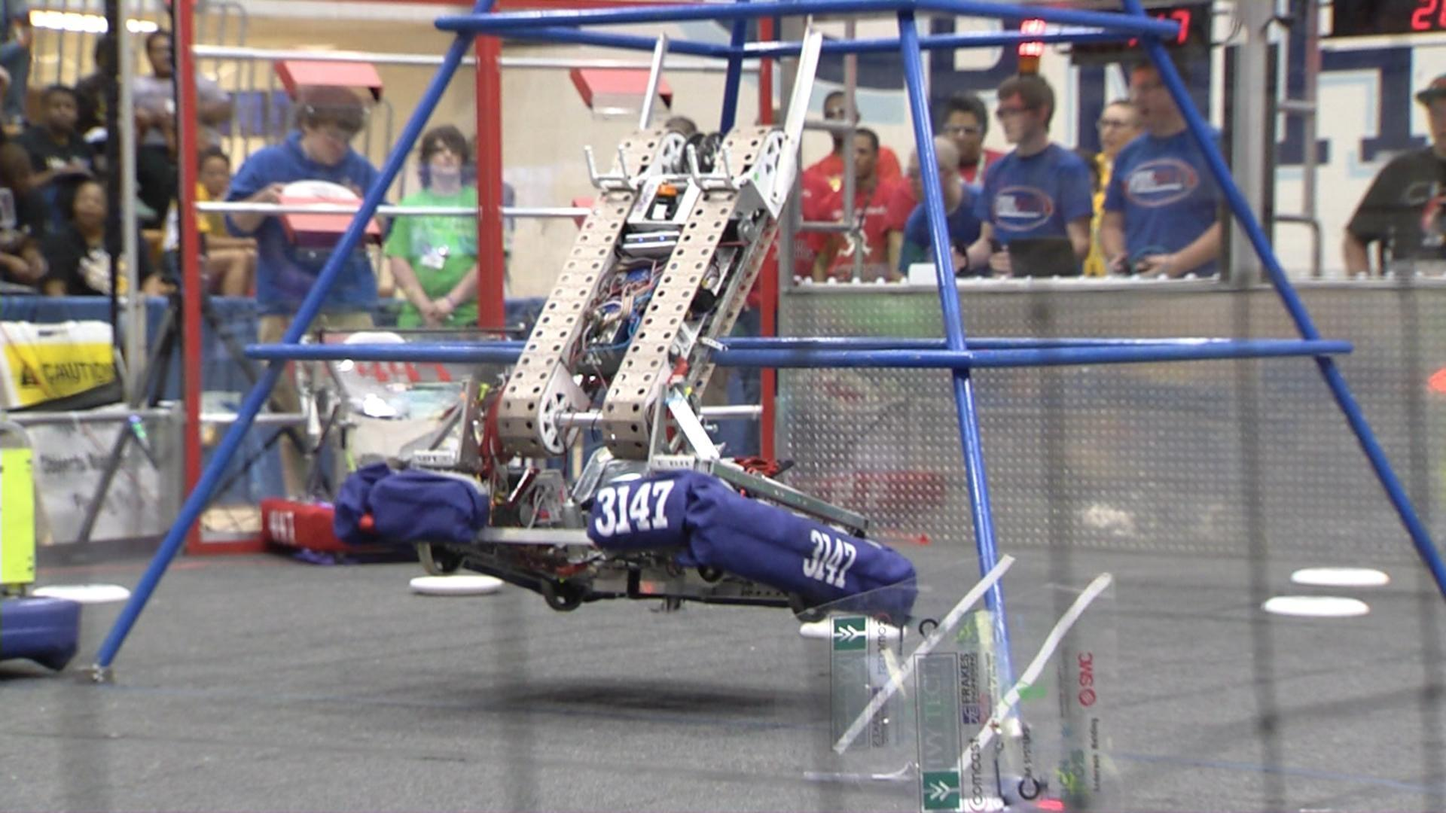robot: (335, 15, 926, 636), (259, 321, 485, 577), (0, 350, 89, 695)
